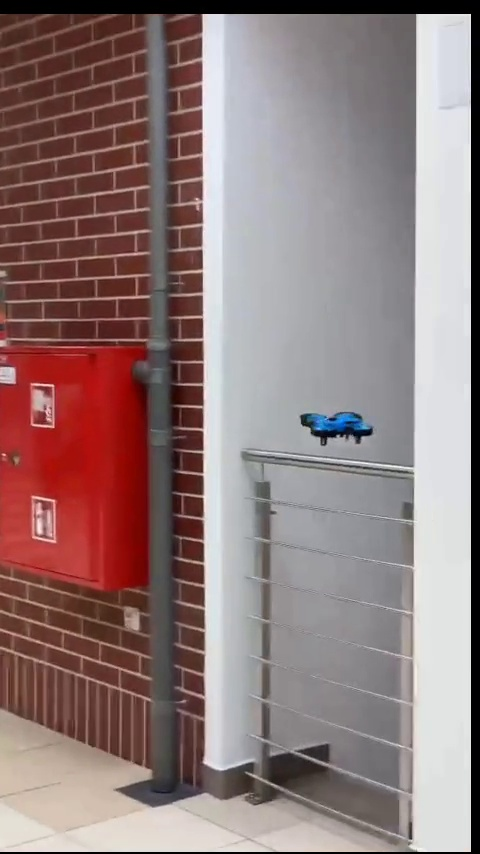drone: (304, 411, 379, 452)
